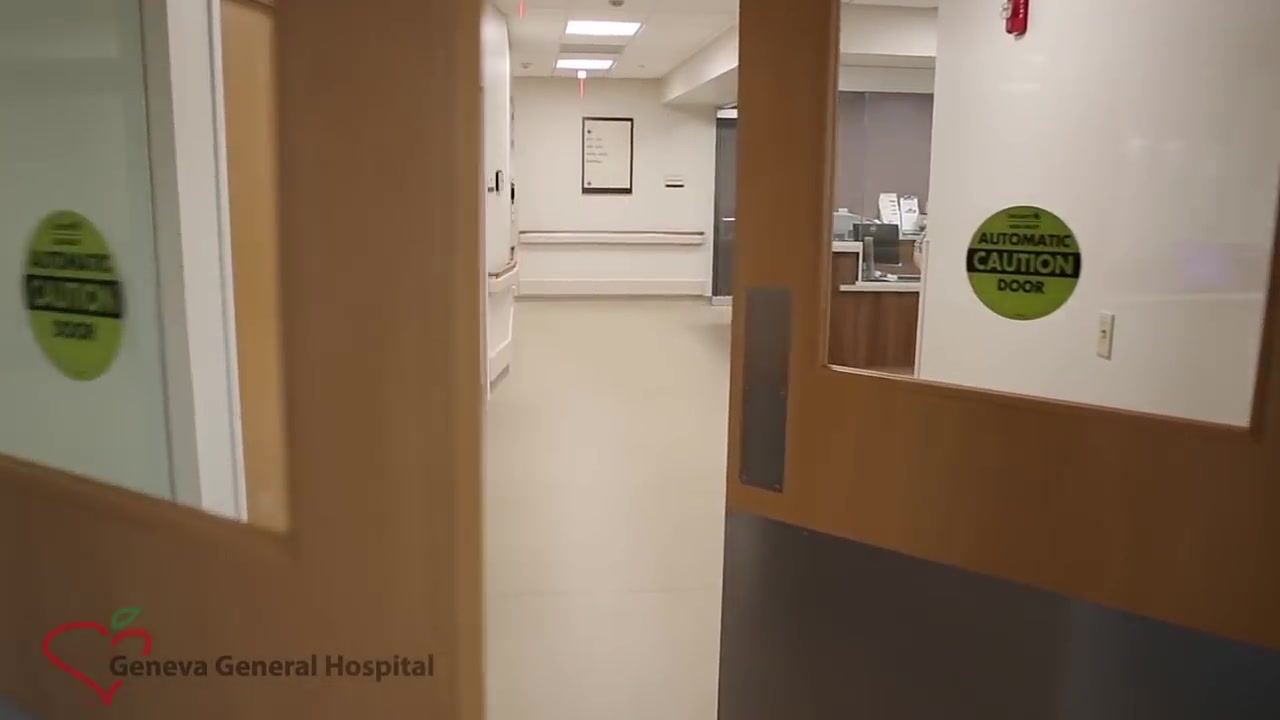computer: (853, 224, 901, 265)
door_handle: (722, 217, 735, 223)
hallway_assist_bar: (520, 230, 707, 247)
light_switch: (1096, 303, 1121, 363)
